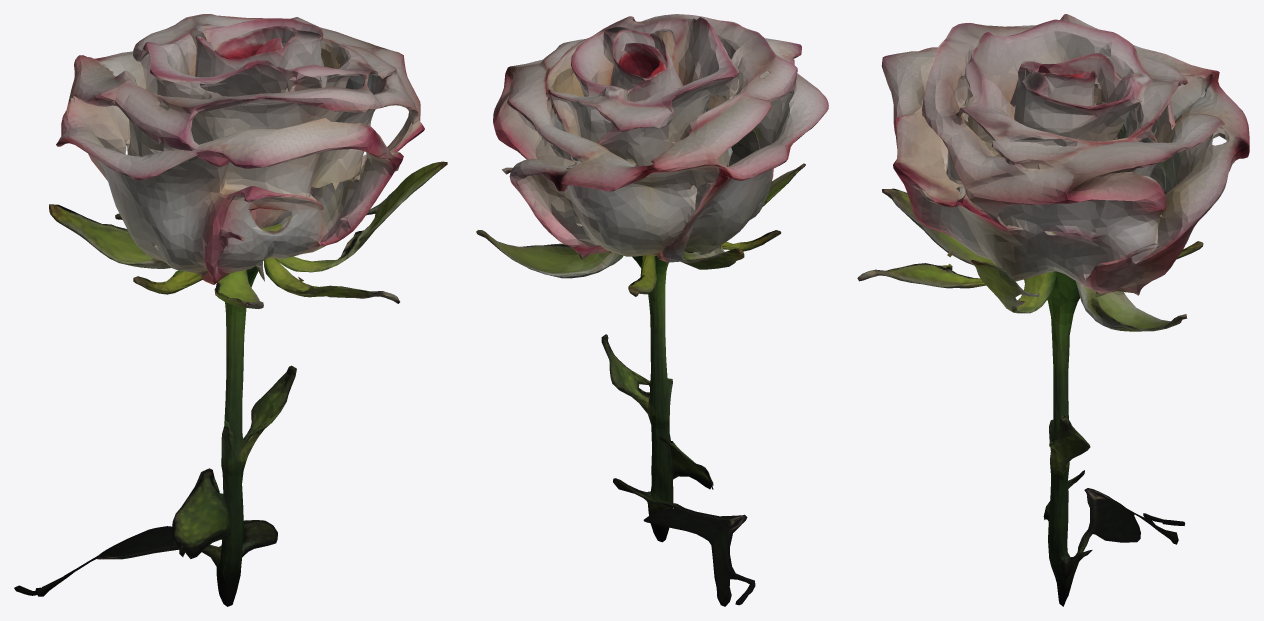
3 views of the same model, side by side, from view 1: azimuth 30°, elevation 25°; view 2: azimuth 150°, elevation 25°; view 3: azimuth 270°, elevation 25° (orthographic). The views are drawn at different scales.
Visible parts, largest first — view 1: world; view 2: world; view 3: world.
Boxes of the visible parts, left/top/right/bottom form: world: left=14, top=14, right=447, bottom=606; world: left=476, top=14, right=828, bottom=606; world: left=857, top=14, right=1249, bottom=606.
Bounding box in the file's own units: 0.6095 × 0.9975 × 0.625.
Materials: 1 (1 with a texture image).
